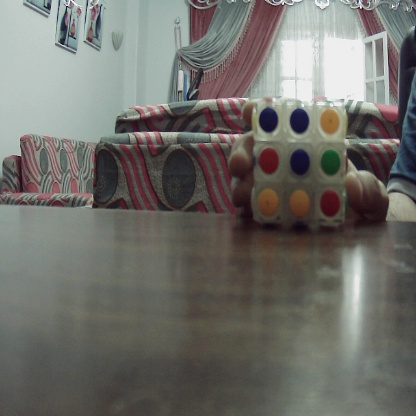Rubix Cube: (253, 97, 345, 225)
